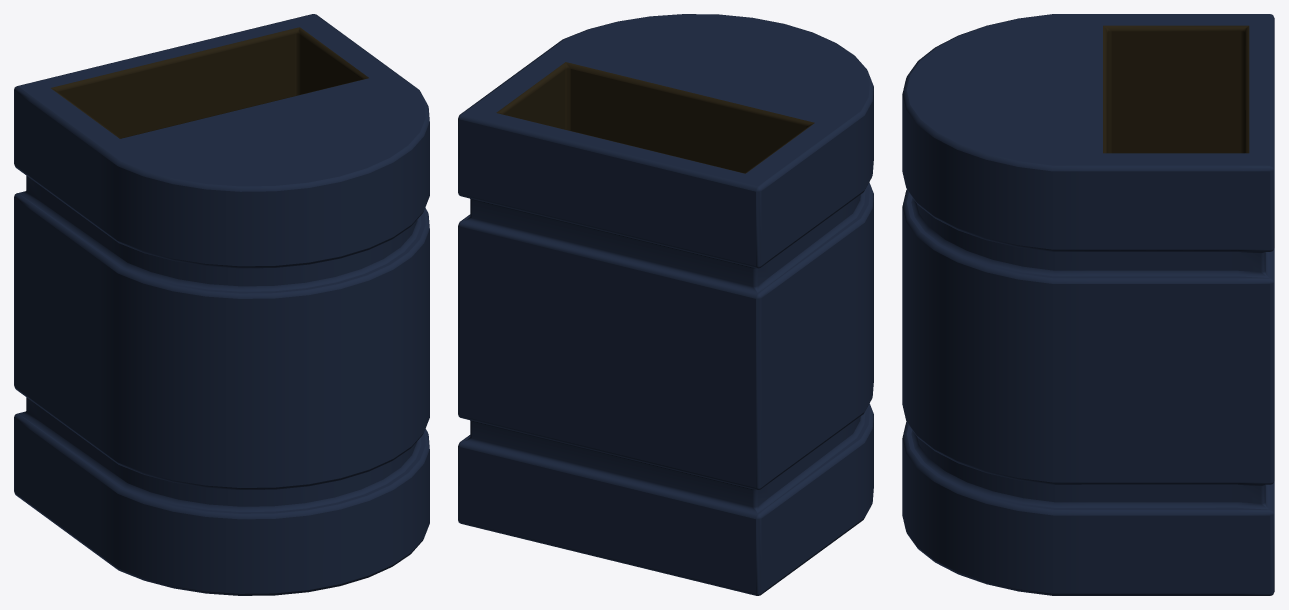
The model's file is trashcan_tier9.fbx.
3 views of the same model, side by side, from view 1: azimuth 30°, elevation 25°; view 2: azimuth 150°, elevation 25°; view 3: azimuth 270°, elevation 25° (orthographic). The views are drawn at different scales.
Visible parts, largest first — view 1: Cylinder; view 2: Cylinder; view 3: Cylinder.
Part boxes in pixels (left/top/right/bottom): Cylinder: left=14, top=14, right=429, bottom=595; Cylinder: left=458, top=14, right=873, bottom=595; Cylinder: left=902, top=14, right=1274, bottom=595.
Size of the model in its own units: 0.6528 by 0.843 by 0.6609.
